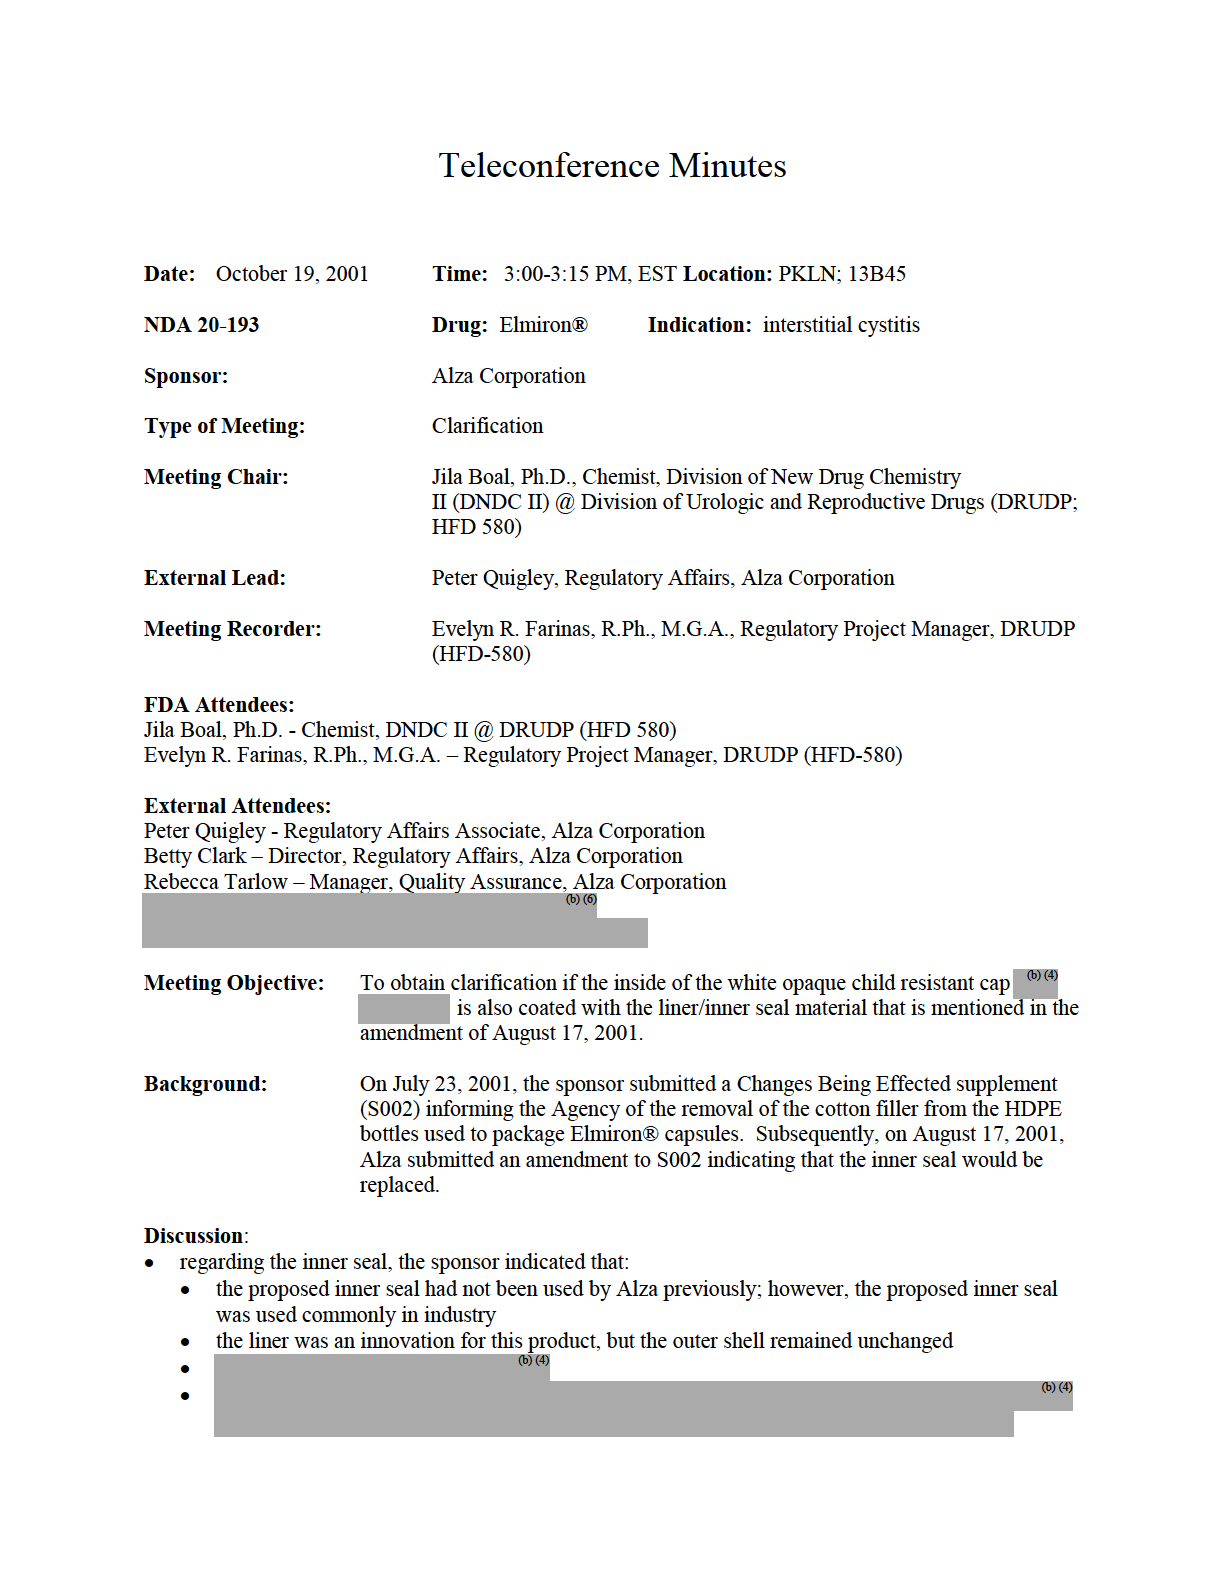nolines: (138, 260, 1079, 665), (139, 969, 1083, 1196)
